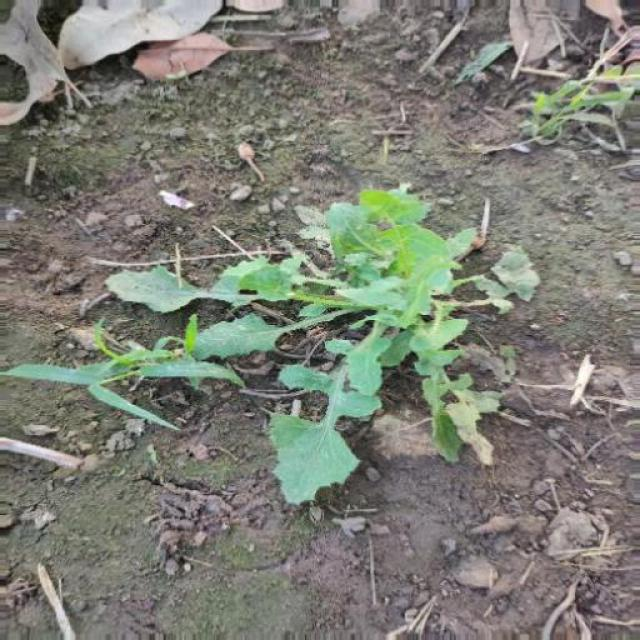weed: (107, 178, 542, 492)
